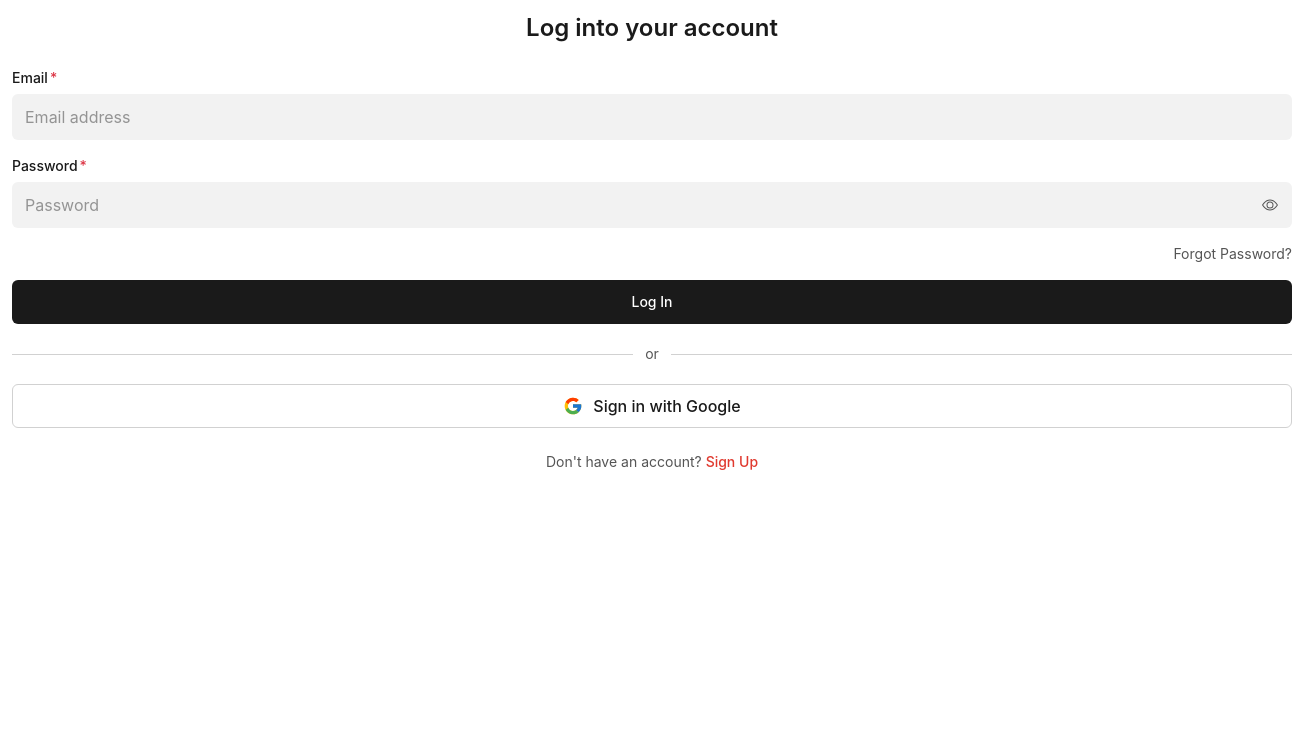
Test: LoginPage › validates before it touches the network
Click the button "Log In": click(652, 302) top-left (12, 280), bottom-right (1292, 324)
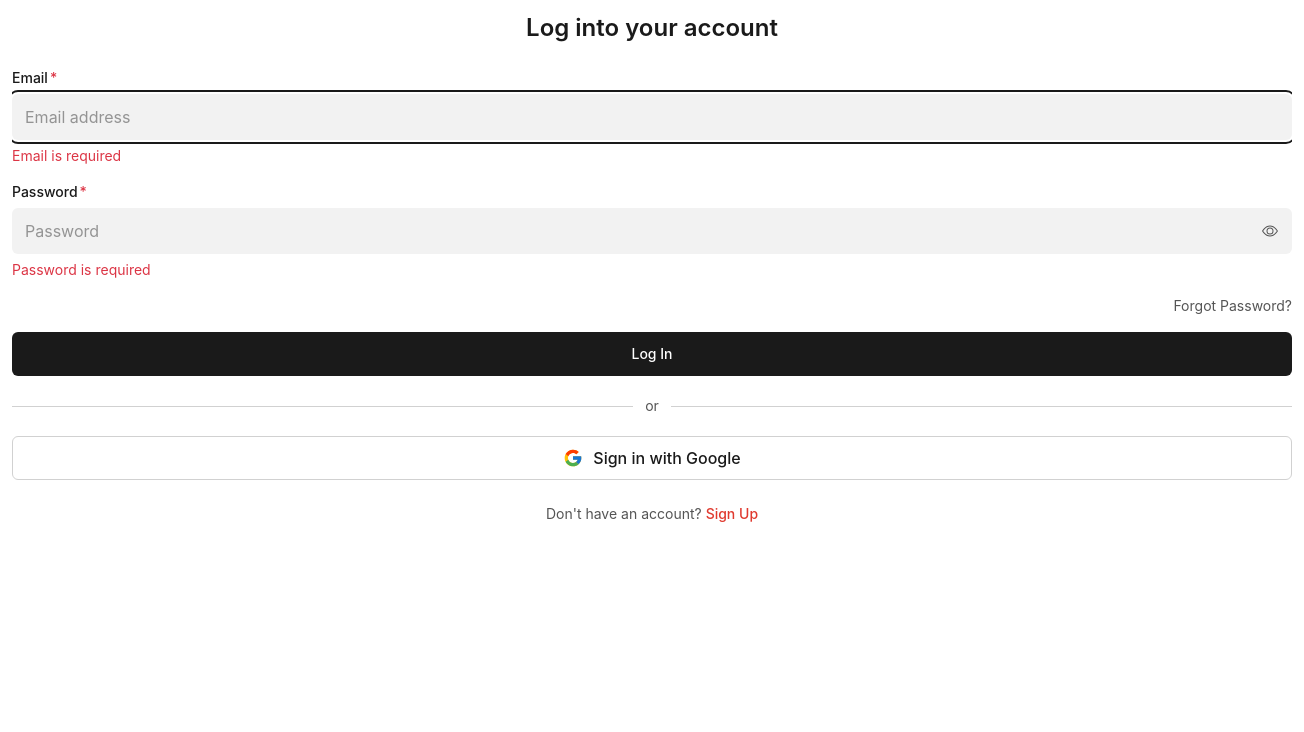
Expected: the text "Email is required" is shown, top-left (12, 147), bottom-right (121, 164)
Expected: the text "Password is required" is shown, top-left (12, 261), bottom-right (151, 278)
